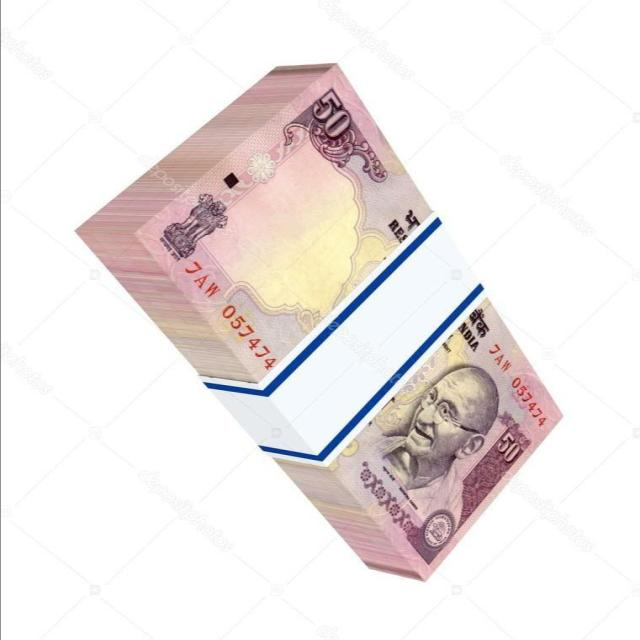50IndianRupees: (156, 69, 564, 581)
